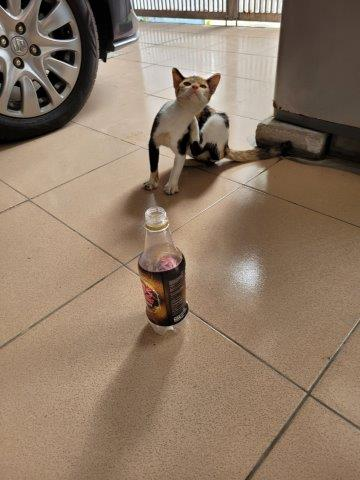botolplastik: (140, 206, 192, 334)
